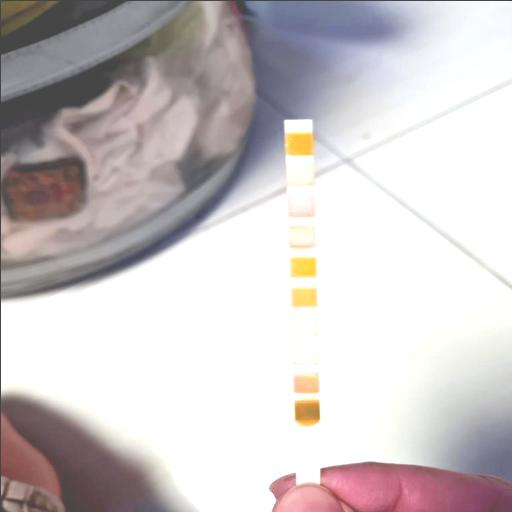Bilirubin: (293, 372, 317, 392)
Blood: (290, 286, 316, 306)
Glucose: (294, 402, 318, 418)
Ketone: (292, 344, 316, 362)
Leukocytes: (286, 132, 312, 152)
Nitrite: (287, 164, 312, 184)
Protein: (289, 226, 314, 246)
SpGravity: (292, 315, 316, 335)
Urobilinogen: (288, 194, 314, 216)
pH: (289, 256, 315, 276)
strip: (283, 118, 318, 479)
